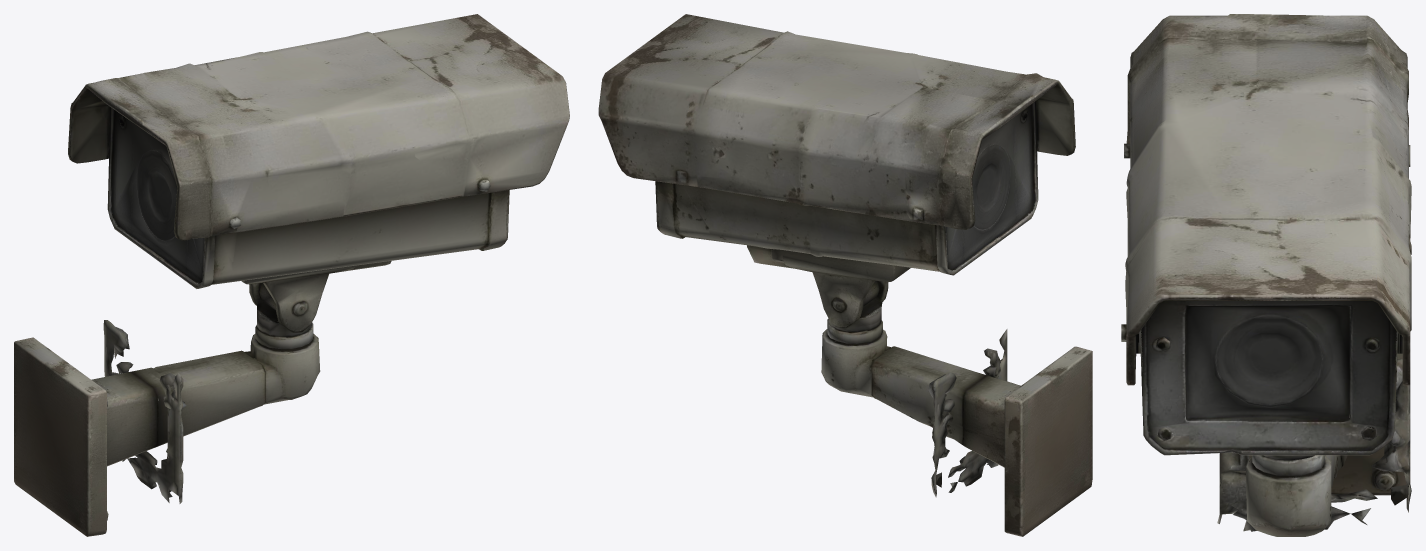
Rendered from guvenlik_kamerasi.glb.
The picture shows the model from 3 angles, left to right: view 1: azimuth 30°, elevation 25°; view 2: azimuth 150°, elevation 25°; view 3: azimuth 270°, elevation 25°; orthographic projection. The views are drawn at different scales.
Parts seen in each view (by area): view 1: tripo_node_0733478a-b334-4324-b0c8-e2aebb87316e; view 2: tripo_node_0733478a-b334-4324-b0c8-e2aebb87316e; view 3: tripo_node_0733478a-b334-4324-b0c8-e2aebb87316e.
Boxes of the visible parts, x1=… form: tripo_node_0733478a-b334-4324-b0c8-e2aebb87316e: x1=14, y1=14, x2=569, y2=536; tripo_node_0733478a-b334-4324-b0c8-e2aebb87316e: x1=598, y1=14, x2=1092, y2=536; tripo_node_0733478a-b334-4324-b0c8-e2aebb87316e: x1=1121, y1=14, x2=1411, y2=536.
Bounding box in the file's own units: 0.9778 × 0.8282 × 0.4295.
1 material, 1 textured.
